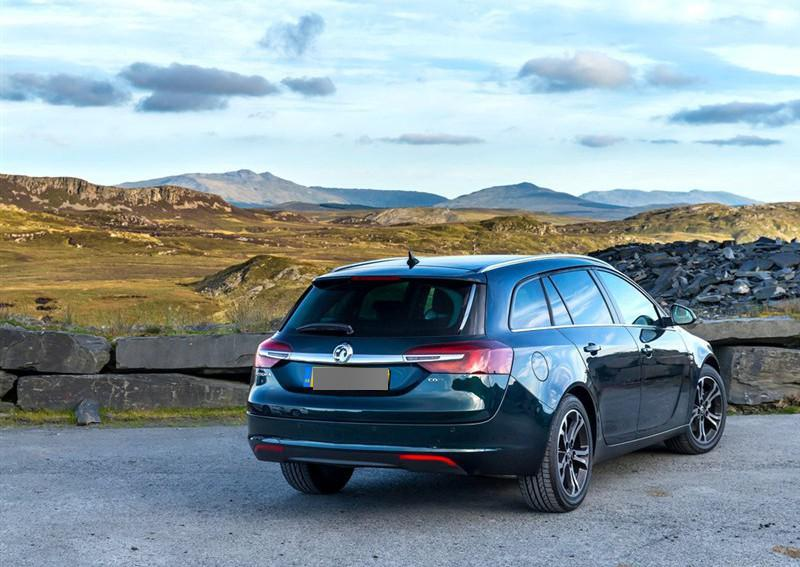Wagon: (246, 251, 729, 514)
